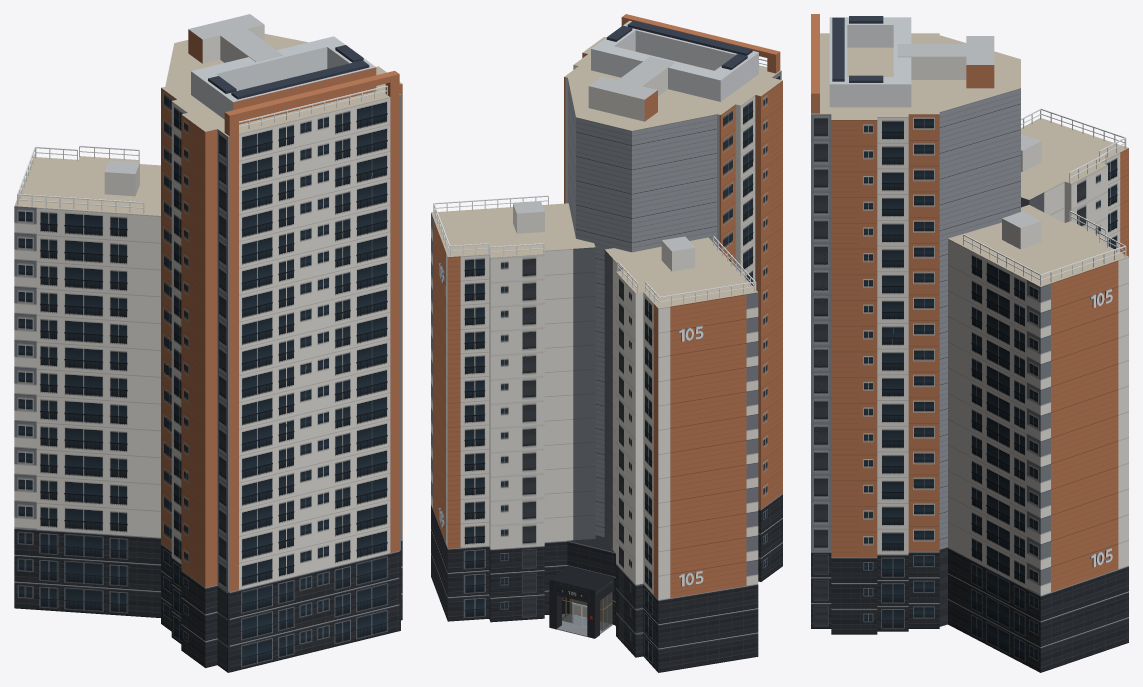
The model's file is place_금파힐105up.glb.
3 views of the same model, side by side, from view 1: azimuth 30°, elevation 25°; view 2: azimuth 150°, elevation 25°; view 3: azimuth 270°, elevation 25° (orthographic). The views are drawn at different scales.
Parts seen in each view (by area): view 1: Wing_South_20F, Wing_NW_15F, KumhoParkHills_105_GroundUp; view 2: Wing_NE_15F, Wing_NW_15F, Wing_South_20F, KumhoParkHills_105_GroundUp; view 3: Wing_South_20F, Wing_NE_15F, KumhoParkHills_105_GroundUp, Wing_NW_15F.
Part boxes in pixels (box(x1,y1,x2,y2)): Wing_South_20F: box(161, 14, 402, 672); Wing_NW_15F: box(14, 145, 160, 617); KumhoParkHills_105_GroundUp: box(165, 34, 307, 101); Wing_NE_15F: box(431, 195, 595, 622); Wing_NW_15F: box(604, 236, 758, 672); Wing_South_20F: box(564, 14, 782, 581); KumhoParkHills_105_GroundUp: box(549, 78, 716, 638); Wing_South_20F: box(811, 14, 994, 634); Wing_NE_15F: box(948, 205, 1128, 672); KumhoParkHills_105_GroundUp: box(901, 35, 1020, 626); Wing_NW_15F: box(1021, 108, 1128, 256).
Bounding box in the file's own units: 37.37 × 55.62 × 29.67.
88 materials, 50 textured.
